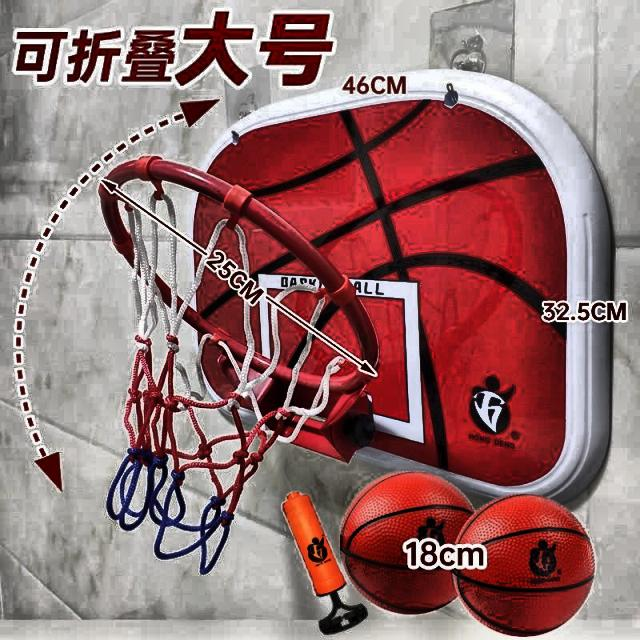board: (454, 494, 596, 638), (341, 471, 473, 615)
